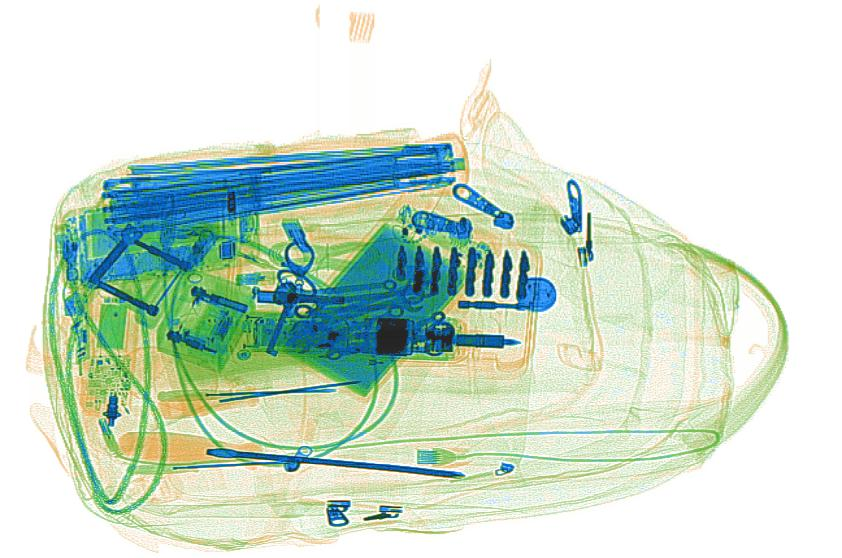battery: (250, 316, 351, 351)
